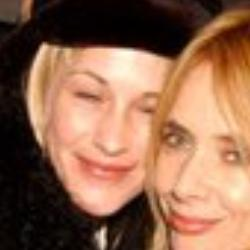face: (17, 24, 173, 219), (142, 4, 248, 249)
